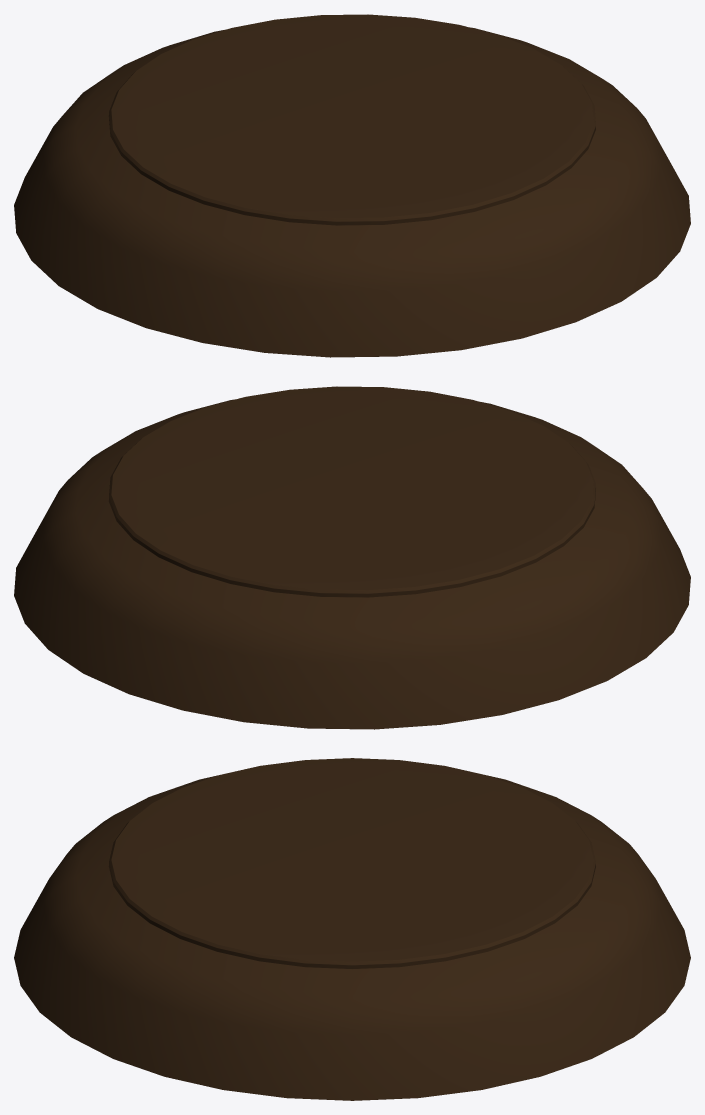
The model's file is Gavel_Pad.fbx.
The picture shows the model from 3 angles, top to bottom: view 1: azimuth 30°, elevation 25°; view 2: azimuth 150°, elevation 25°; view 3: azimuth 270°, elevation 25°; orthographic projection.
Visible parts, largest first — view 1: Gavel_Pad; view 2: Gavel_Pad; view 3: Gavel_Pad.
Part boxes in pixels (x1=…): Gavel_Pad: x1=14, y1=14, x2=690, y2=357; Gavel_Pad: x1=14, y1=386, x2=690, y2=729; Gavel_Pad: x1=14, y1=758, x2=690, y2=1100.
Size of the model in its own units: 845 by 137 by 845.
